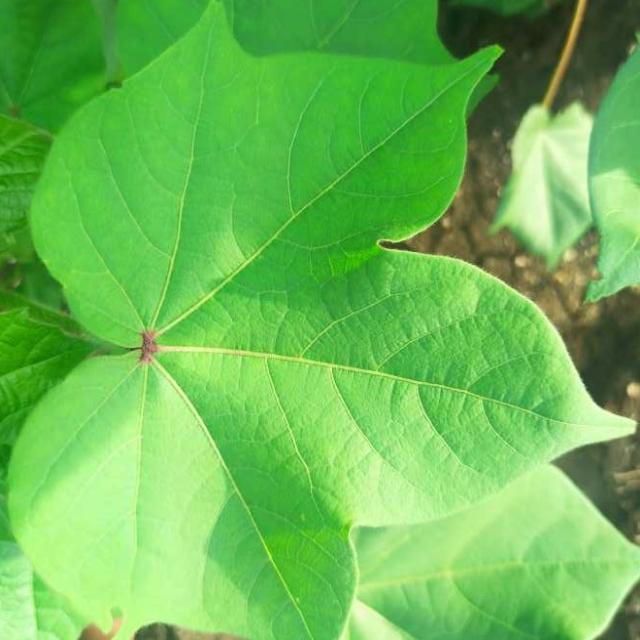Healthy Leaf: (0, 6, 634, 640)
